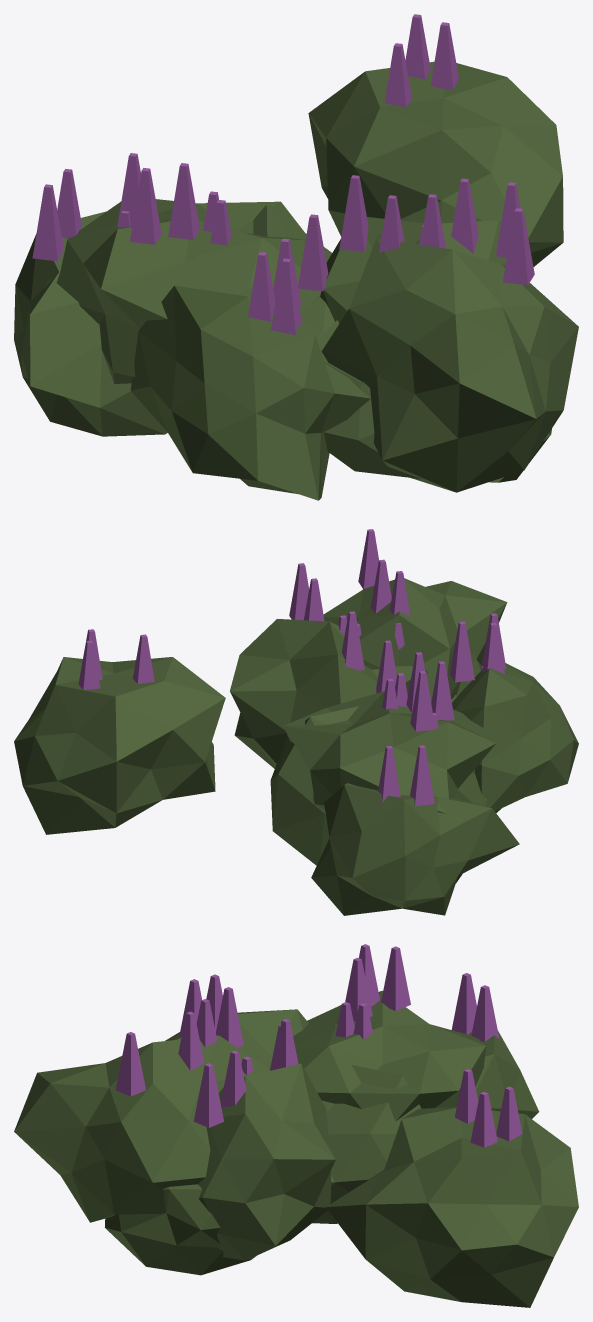
Rendered from DV_Plant_Heather.obj.
3 views of the same model, one above another, from view 1: azimuth 30°, elevation 25°; view 2: azimuth 150°, elevation 25°; view 3: azimuth 270°, elevation 25° (orthographic). The views are drawn at different scales.
Parts seen in each view (by area): view 1: bush_3, bush_6, bush_2, bush_7, bush_1, bush_5, bush_4, bush_0, spike_3_2, spike_7_1, spike_7_0, spike_1_0 (+14 smaller); view 2: bush_2, bush_1, bush_7, bush_5, bush_6, bush_3, bush_0, spike_6_0, spike_7_2, spike_1_0, spike_7_1, spike_5_0 (+11 smaller); view 3: bush_2, bush_3, bush_5, bush_7, bush_4, bush_0, bush_1, bush_6, spike_5_2, spike_3_2, spike_7_2, spike_1_0 (+15 smaller).
Part boxes in pixels (left/top/right/bottom): bush_3: left=321, top=234, right=578, bottom=492; bush_6: left=130, top=285, right=370, bottom=500; bush_2: left=308, top=61, right=563, bottom=266; bush_7: left=44, top=199, right=320, bottom=383; bush_1: left=14, top=211, right=167, bottom=436; bush_5: left=320, top=217, right=506, bottom=323; bush_4: left=317, top=320, right=551, bottom=482; bush_0: left=198, top=205, right=334, bottom=340; spike_3_2: left=503, top=208, right=534, bottom=284; spike_7_1: left=130, top=168, right=161, bottom=244; spike_7_0: left=168, top=163, right=199, bottom=239; spike_1_0: left=32, top=184, right=63, bottom=261; bush_2: left=14, top=657, right=225, bottom=834; bush_1: left=311, top=783, right=519, bottom=915; bush_7: left=283, top=691, right=496, bottom=813; bush_5: left=230, top=619, right=427, bottom=768; bush_6: left=452, top=663, right=578, bottom=812; bush_3: left=323, top=578, right=507, bottom=701; bush_0: left=270, top=706, right=358, bottom=865; spike_6_0: left=449, top=621, right=474, bottom=682; spike_7_2: left=410, top=671, right=435, bottom=731; spike_1_0: left=410, top=745, right=434, bottom=806; spike_7_1: left=431, top=661, right=454, bottom=720; spike_5_0: left=341, top=611, right=364, bottom=670; bush_2: left=326, top=1107, right=578, bottom=1307; bush_3: left=14, top=1035, right=270, bottom=1222; bush_5: left=198, top=1063, right=335, bottom=1260; bush_7: left=293, top=990, right=485, bottom=1121; bush_4: left=105, top=1184, right=255, bottom=1275; bush_0: left=312, top=1027, right=421, bottom=1223; bush_1: left=468, top=1031, right=539, bottom=1118; bush_6: left=165, top=1009, right=308, bottom=1069; spike_5_2: left=193, top=1063, right=223, bottom=1127; spike_3_2: left=115, top=1032, right=145, bottom=1096; spike_7_2: left=381, top=946, right=410, bottom=1010; spike_1_0: left=451, top=973, right=476, bottom=1034.
Bounding box in the file's own units: 3.93 × 1.84 × 4.07.
